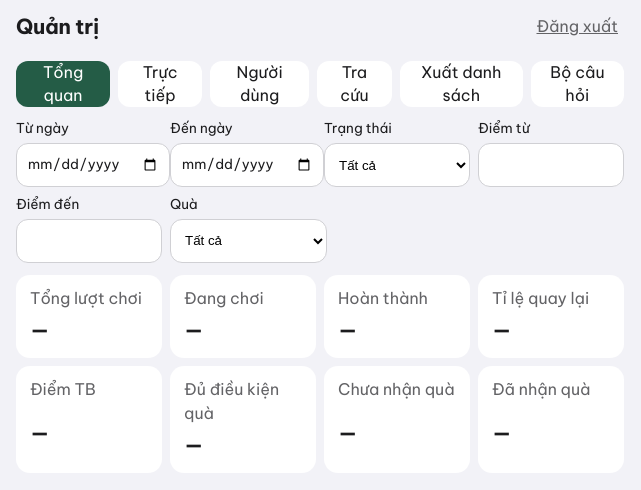
Test: claim: confirm then RPC, ALREADY_CLAIMED shown as notice
Click the button "Tra cứu": {"x": 354, "y": 84} [317,61,392,107]
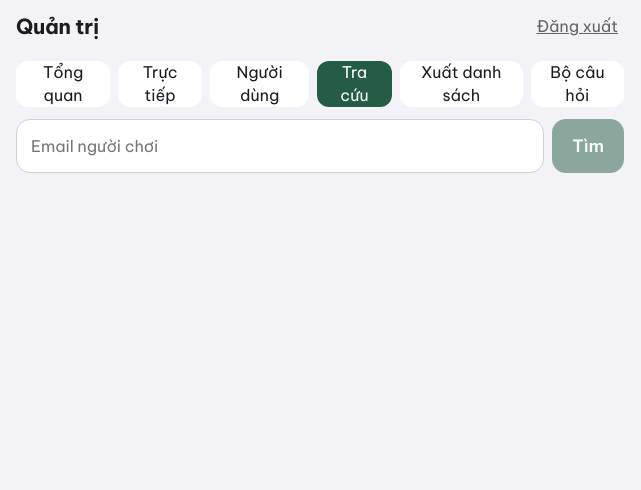
Check: the button "Tìm" is shown, box [552,119,624,173]
In the search field labelled "Email người chơi": {"x": 280, "y": 146} [16,119,544,173], type "p1"
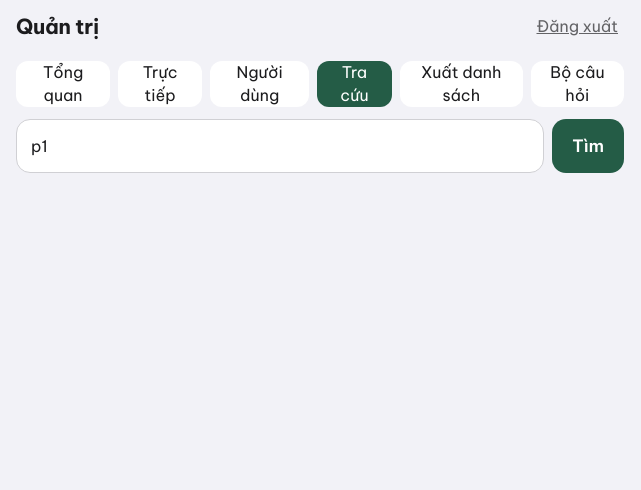
Click the button "Tìm": {"x": 588, "y": 146} [552,119,624,173]
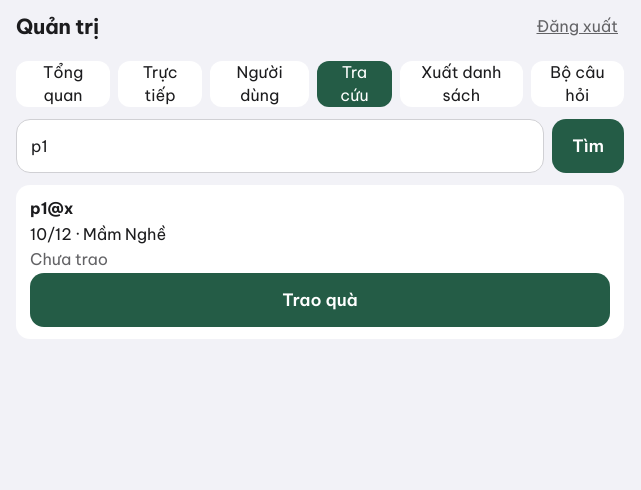
Click the button "Trao quà": {"x": 320, "y": 300} [30,273,610,327]
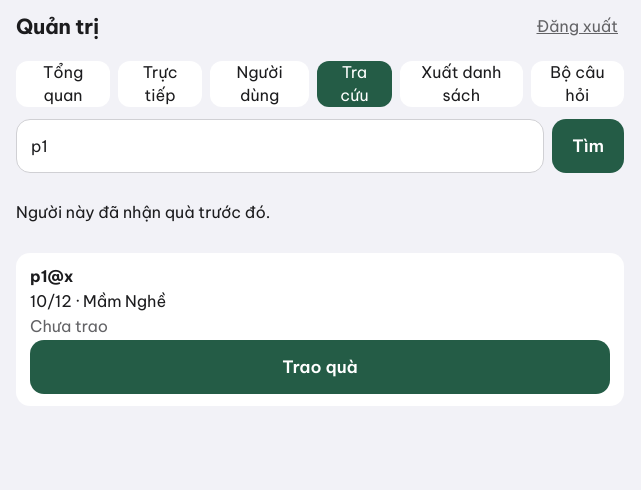
Check: the text "Người này đã nhận quà trước đó." is shown, box [16,202,270,222]
